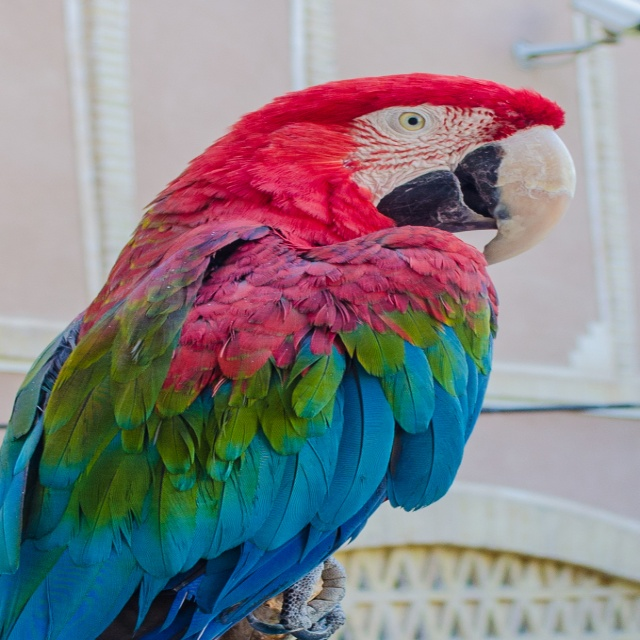Parrot: (0, 70, 577, 640)
